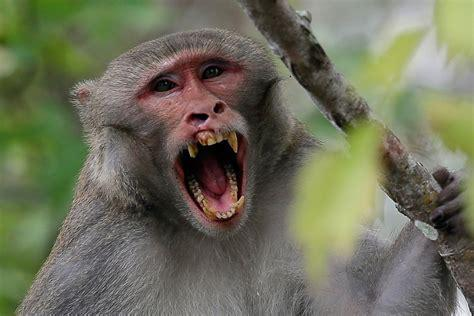monkey: (18, 30, 474, 316)
